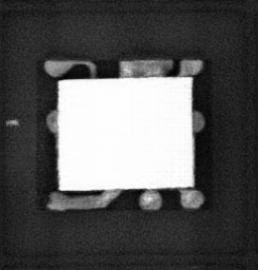DIE_INK: (4, 117, 20, 127)
